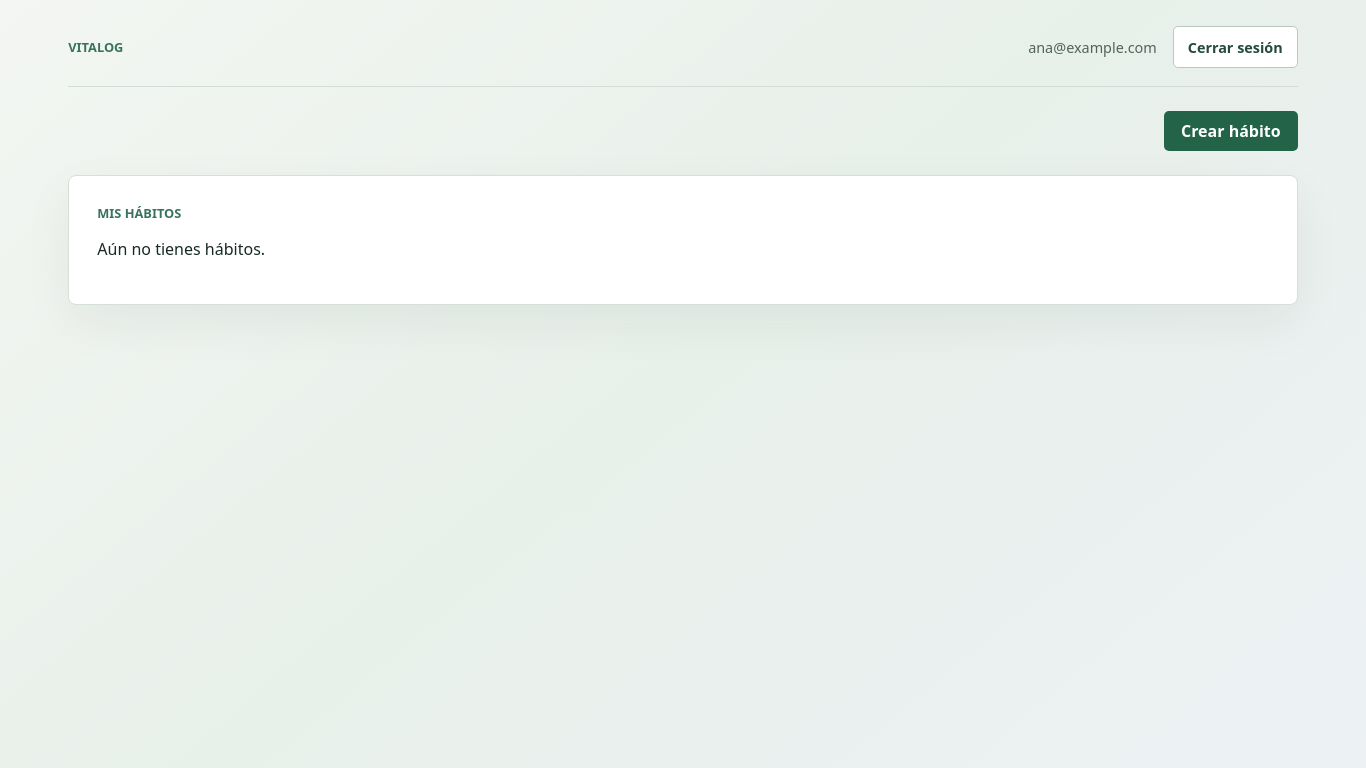
it: oculta el formulario después de crear el hábito
The image size is (1366, 768).
Click the button "Crear hábito".
click(1231, 131)  # box [1164,111,1298,151]
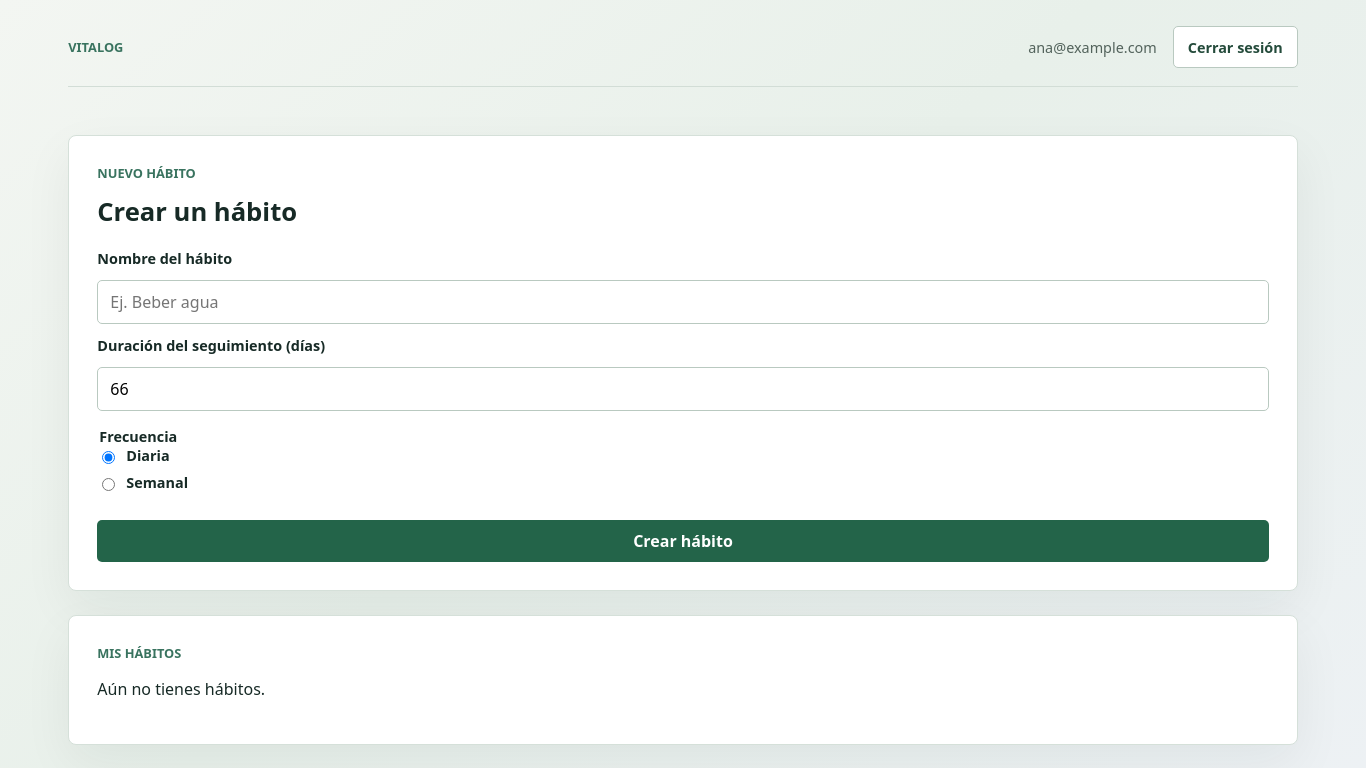
Type "Beber agua" into the field labelled "Nombre del hábito".
click(683, 302); type("Beber agua")  # box [97,280,1269,324]
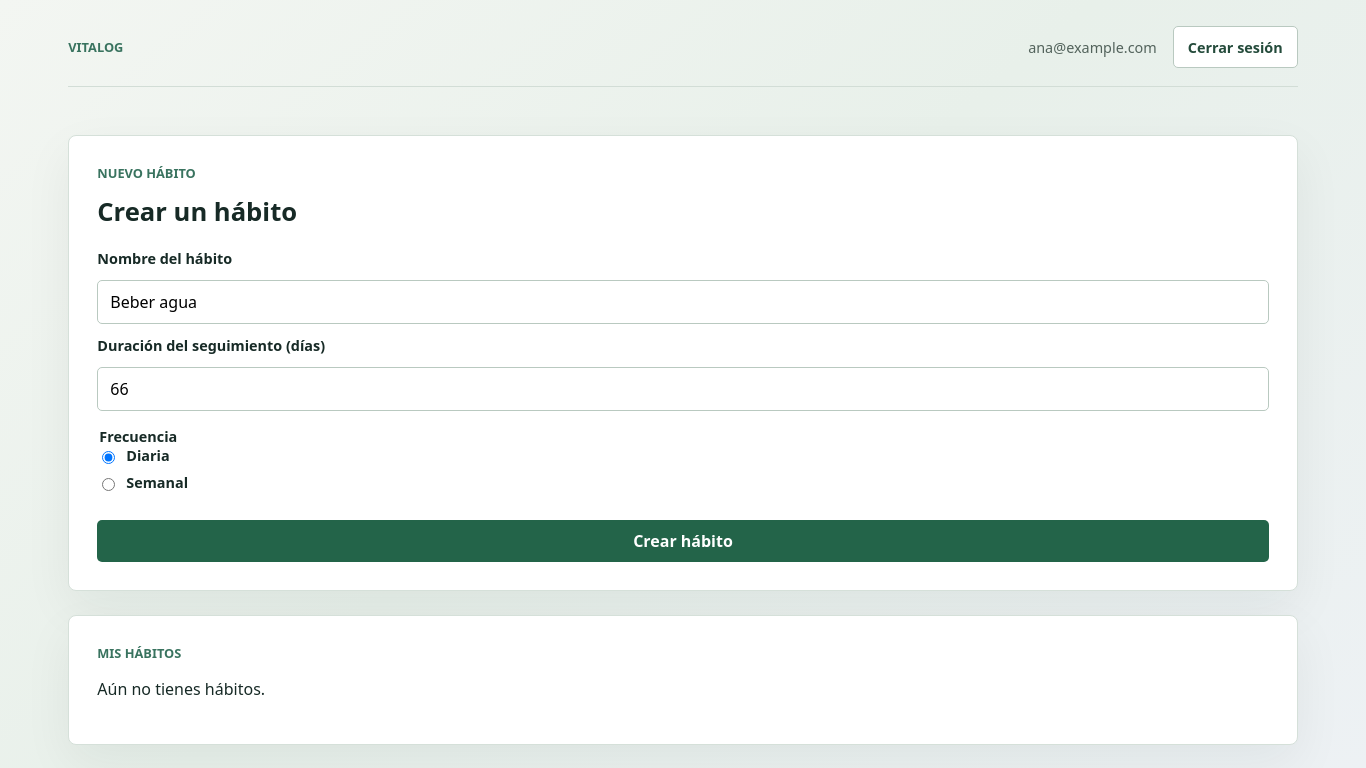
Click the button "Crear hábito".
click(683, 541)  # box [97,520,1269,562]
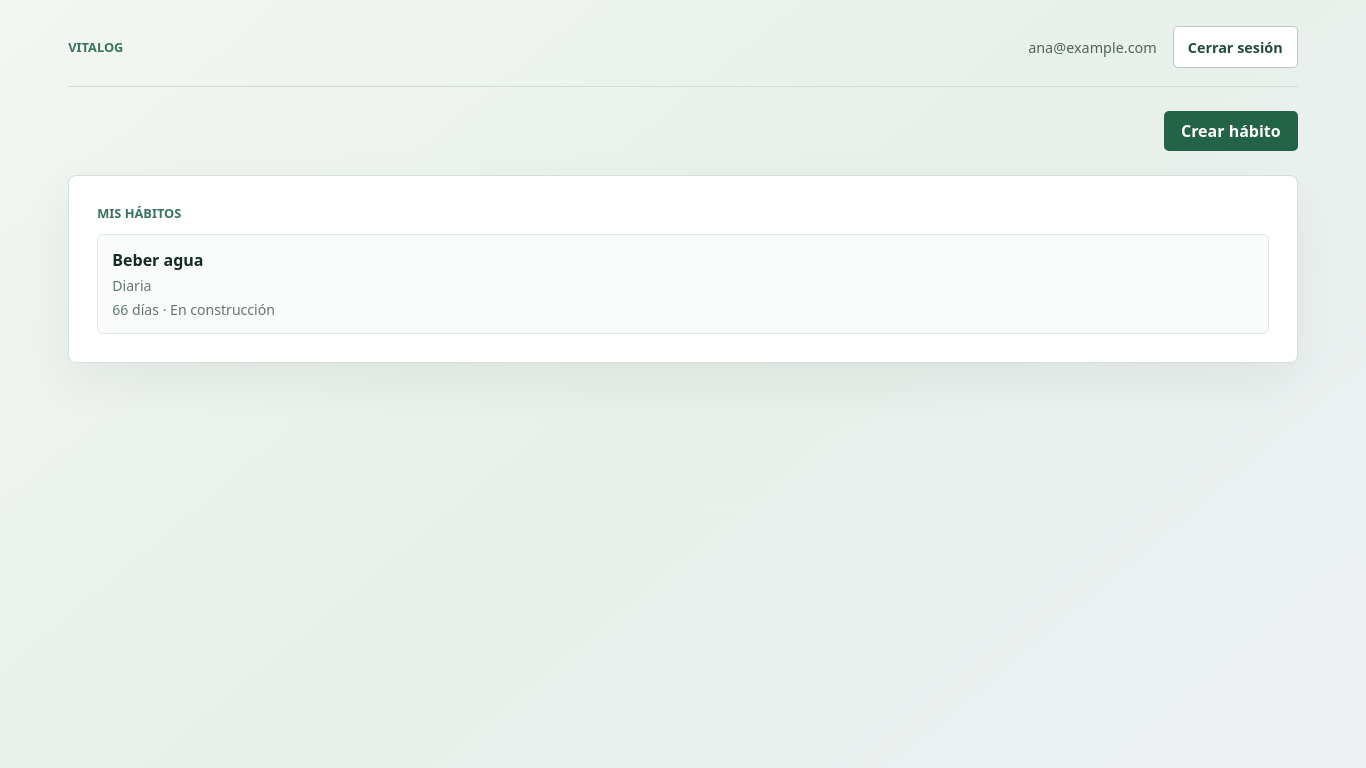
Result: the text "Beber agua" is shown at [112,249,204,271]
Result: the label labelled "Nombre del hábito" is gone
